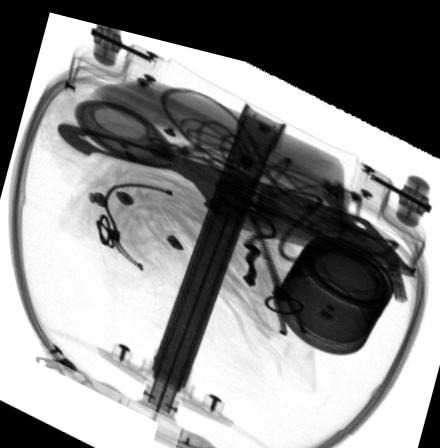Knife: (56, 121, 413, 256)
